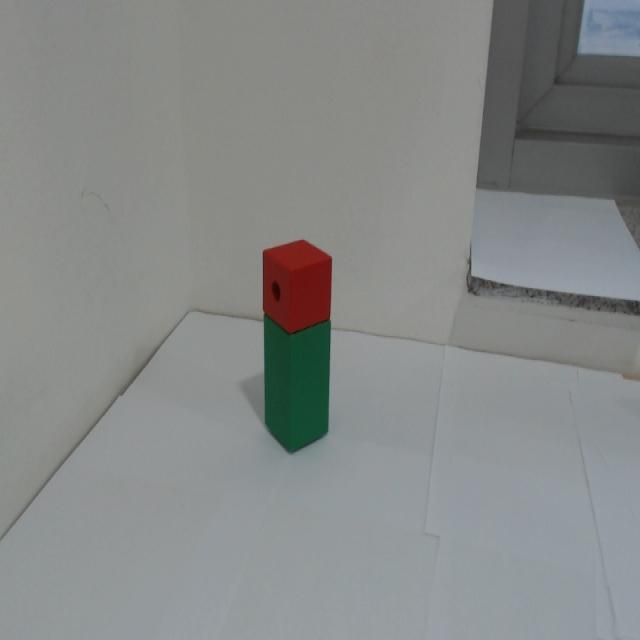cube: (253, 228, 350, 320)
